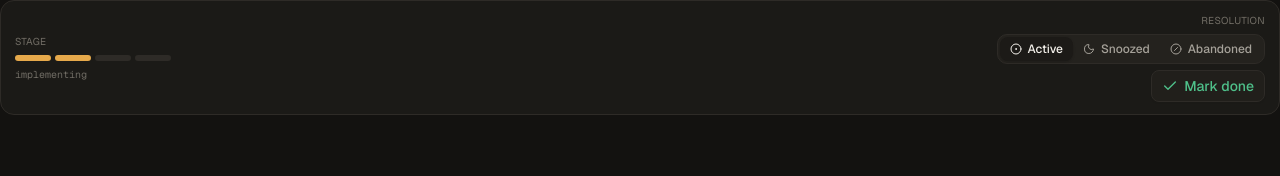
Scenario: TicketStateBar › clears the Abandon confirmation when Mark done is armed instead
Click the button "Abandoned": coordinates (1211, 49) [1160,37,1262,61]
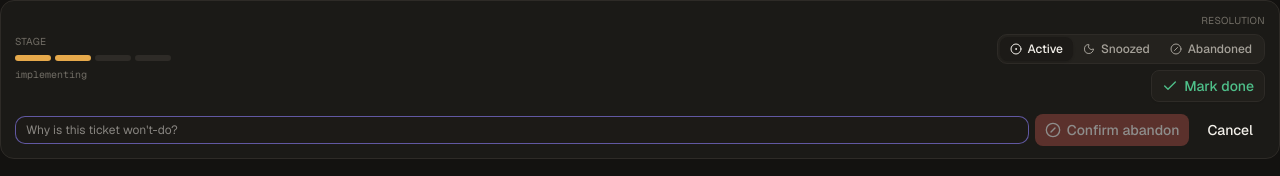
Expected: the button "Confirm abandon" is shown, [1035,114,1189,146]
Click the button "Mark done": coordinates (1208, 86) [1151,70,1265,102]
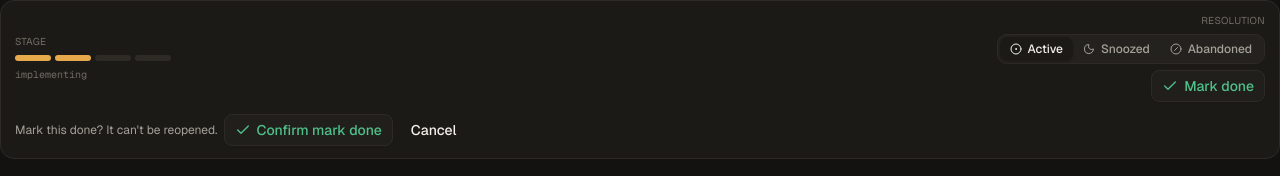
Expected: the button "Confirm abandon" is gone
Expected: the button "Confirm mark done" is shown, [224,114,393,146]
